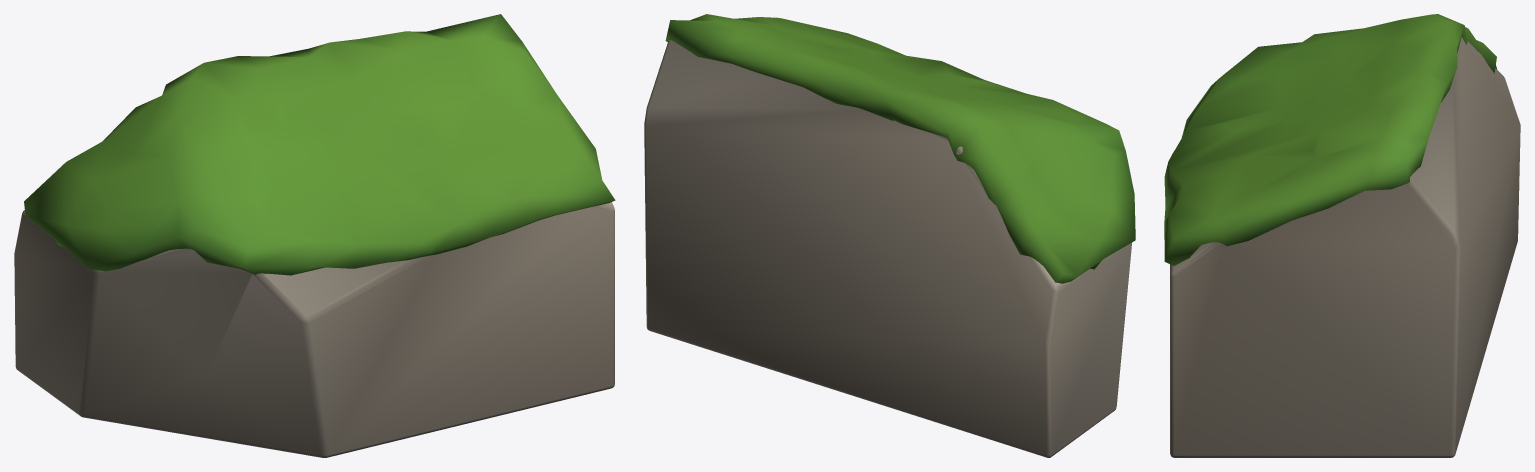
File: glade_pebble_boulder_a_lod1.glb
3 renders of one model, left to right at view 1: azimuth 30°, elevation 25°; view 2: azimuth 150°, elevation 25°; view 3: azimuth 270°, elevation 25°, orthographic. The views are drawn at different scales.
Visible parts, largest first — view 1: glade_pebble_boulder_a.001, moss.001; view 2: glade_pebble_boulder_a.001, moss.001; view 3: glade_pebble_boulder_a.001, moss.001.
Boxes of the visible parts, x1=… form: glade_pebble_boulder_a.001: x1=14, y1=202, x2=614, y2=457; moss.001: x1=24, y1=14, x2=615, y2=275; glade_pebble_boulder_a.001: x1=644, y1=40, x2=1131, y2=457; moss.001: x1=665, y1=14, x2=1135, y2=283; glade_pebble_boulder_a.001: x1=1170, y1=37, x2=1520, y2=457; moss.001: x1=1164, y1=14, x2=1496, y2=265.
Bounding box in the file's own units: 7.52 × 4.75 × 5.09.
